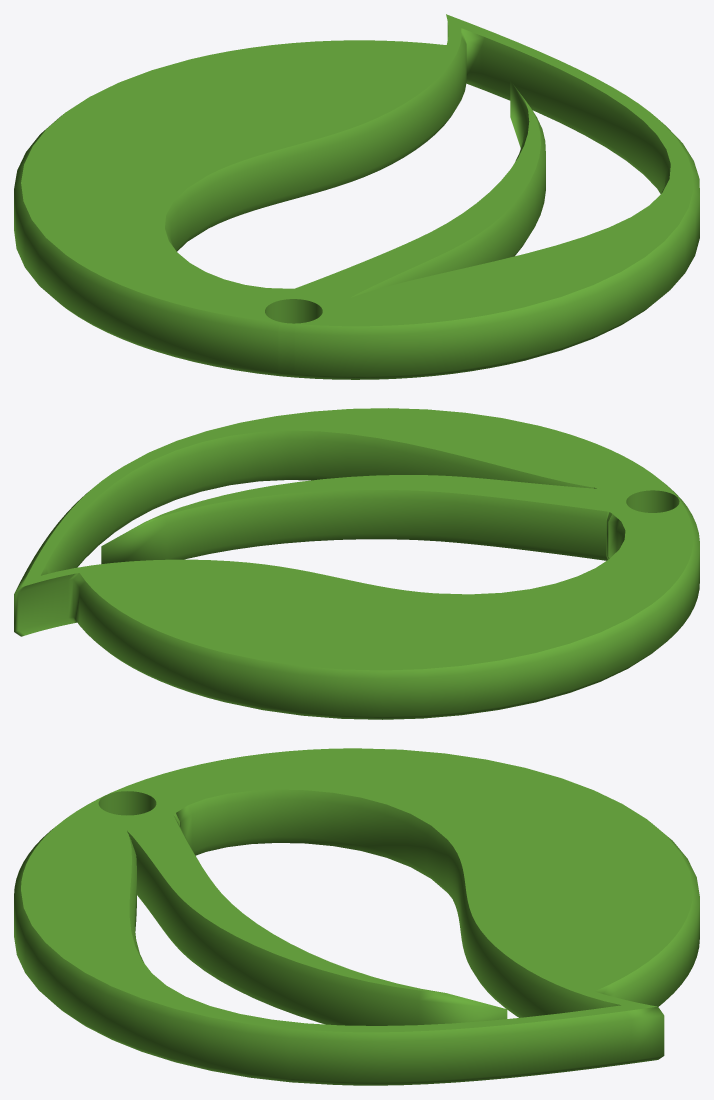
Rendered from Spring.glb.
3 renders of one model, top to bottom at view 1: azimuth 30°, elevation 25°; view 2: azimuth 150°, elevation 25°; view 3: azimuth 270°, elevation 25°, orthographic. The views are drawn at different scales.
Parts seen in each view (by area): view 1: Curve; view 2: Curve; view 3: Curve.
Part boxes in pixels (x1=…): Curve: x1=14, y1=14, x2=699, y2=379; Curve: x1=14, y1=408, x2=699, y2=719; Curve: x1=14, y1=748, x2=699, y2=1085.
Size of the model in its own units: 1.96 by 0.1685 by 1.96.
